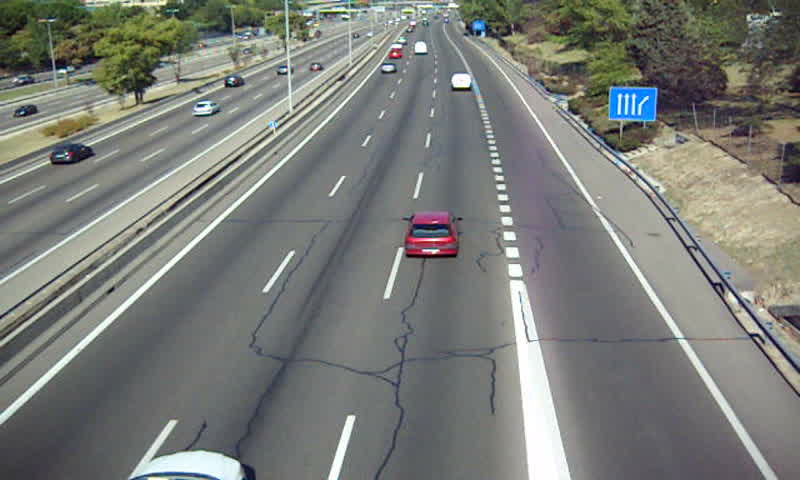car: (405, 211, 457, 257), (380, 60, 397, 73)
van: (452, 73, 472, 91)
